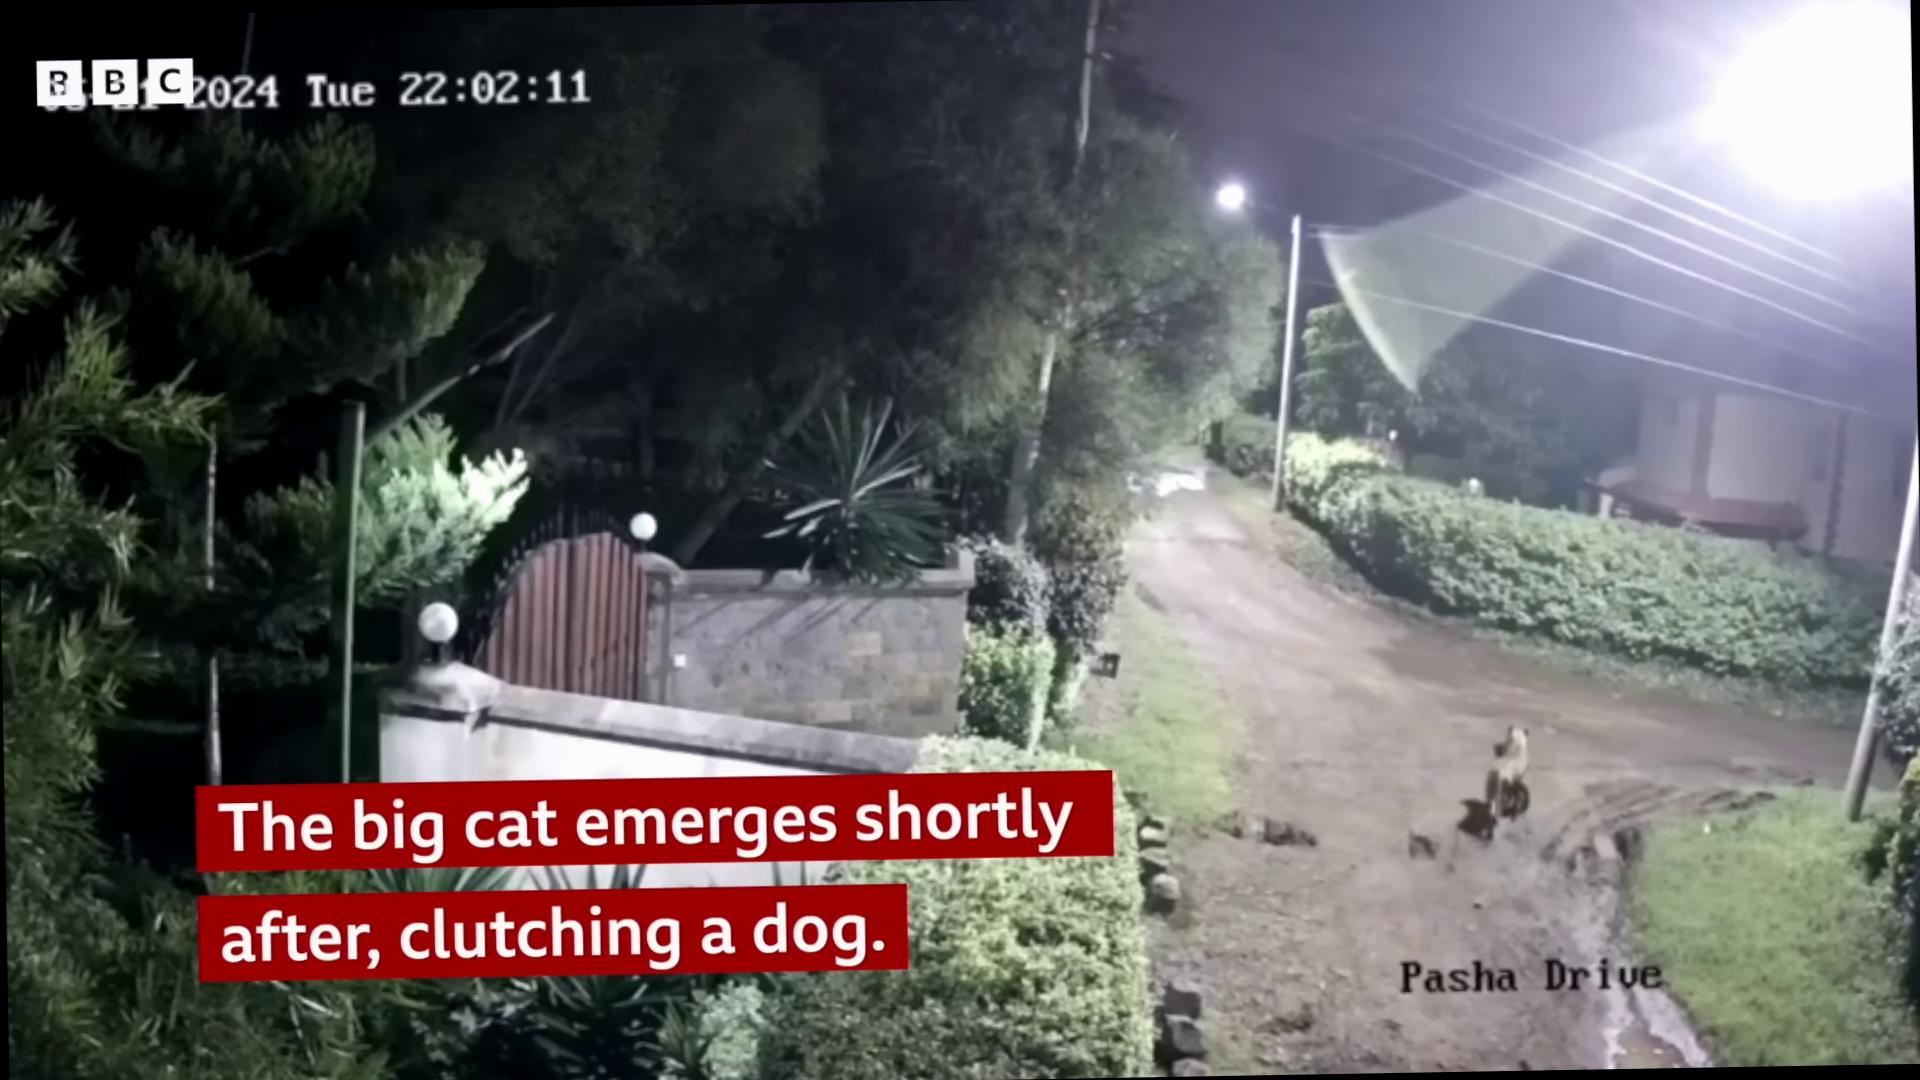lions: (1429, 683, 1563, 852)
